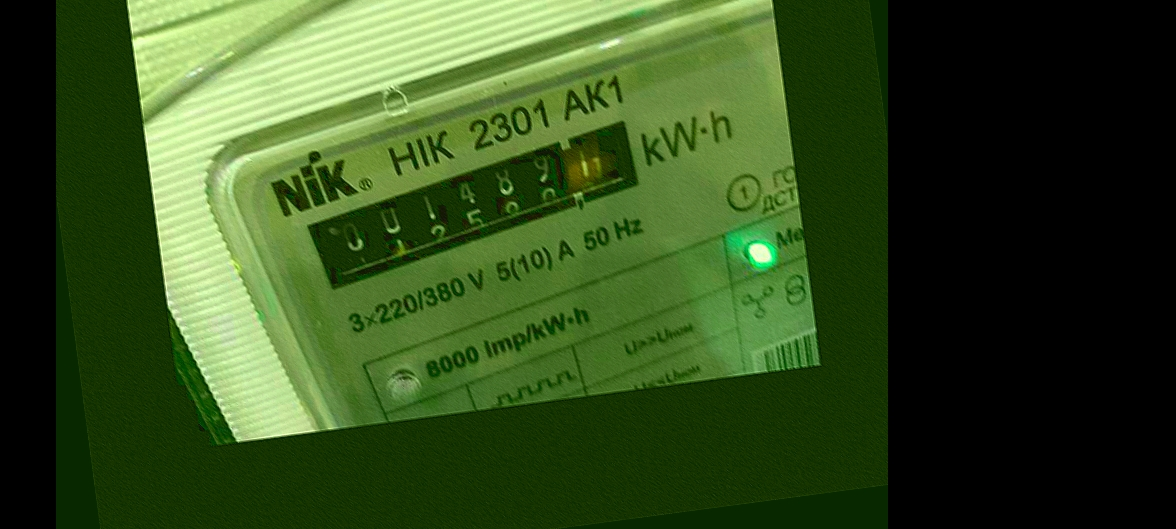0: (375, 198, 405, 237), (339, 217, 367, 255)
1: (572, 141, 596, 181), (418, 189, 442, 223)
4: (454, 174, 480, 208)
8: (493, 161, 518, 199)
9: (531, 150, 555, 184)
screen: (287, 105, 678, 304)
